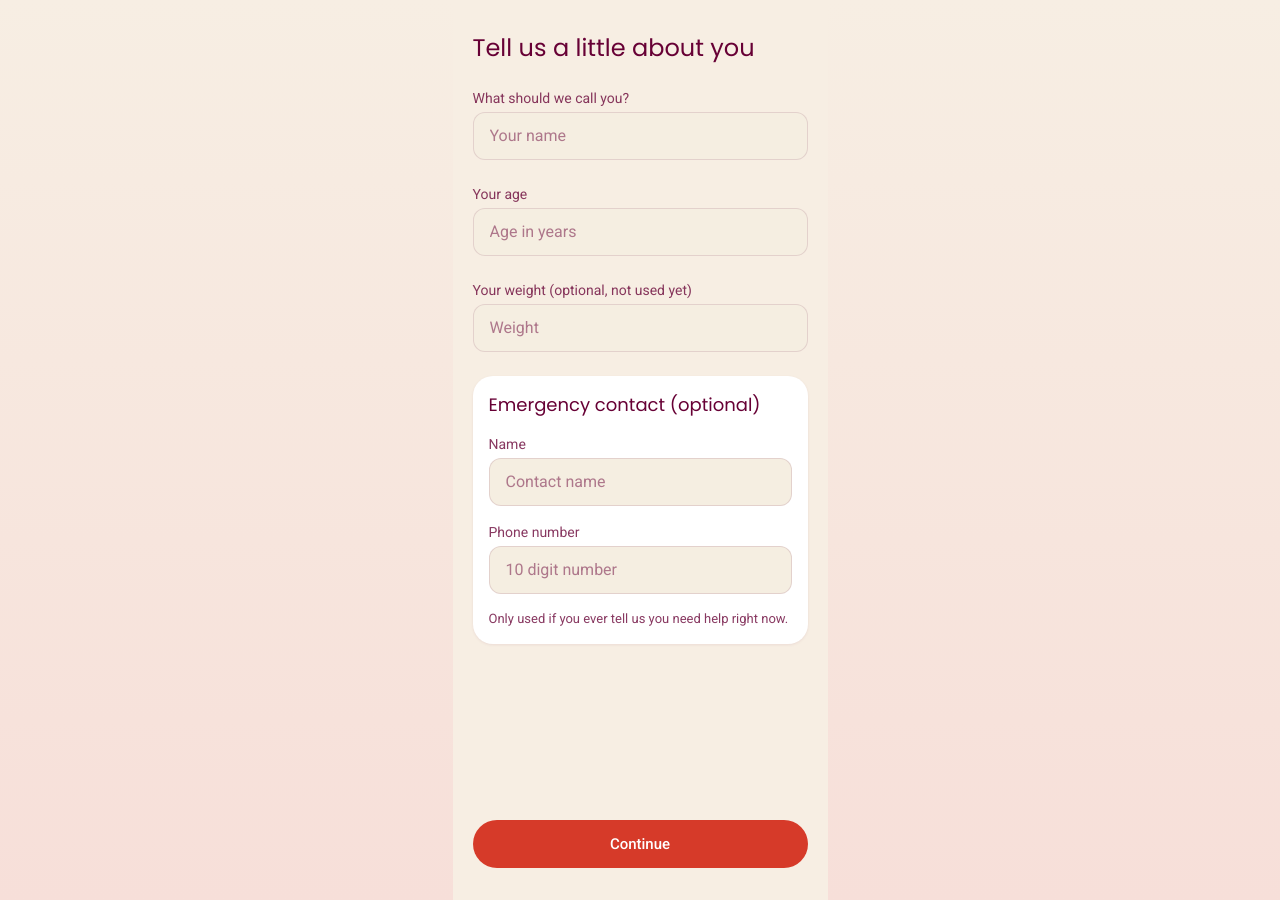
it: OnboardingForm › advances to Pregnancy Start once a name is given
The image size is (1280, 900).
In the field labelled "What should we call you?": (640, 136) [472, 112, 808, 160], type "Priyanka"
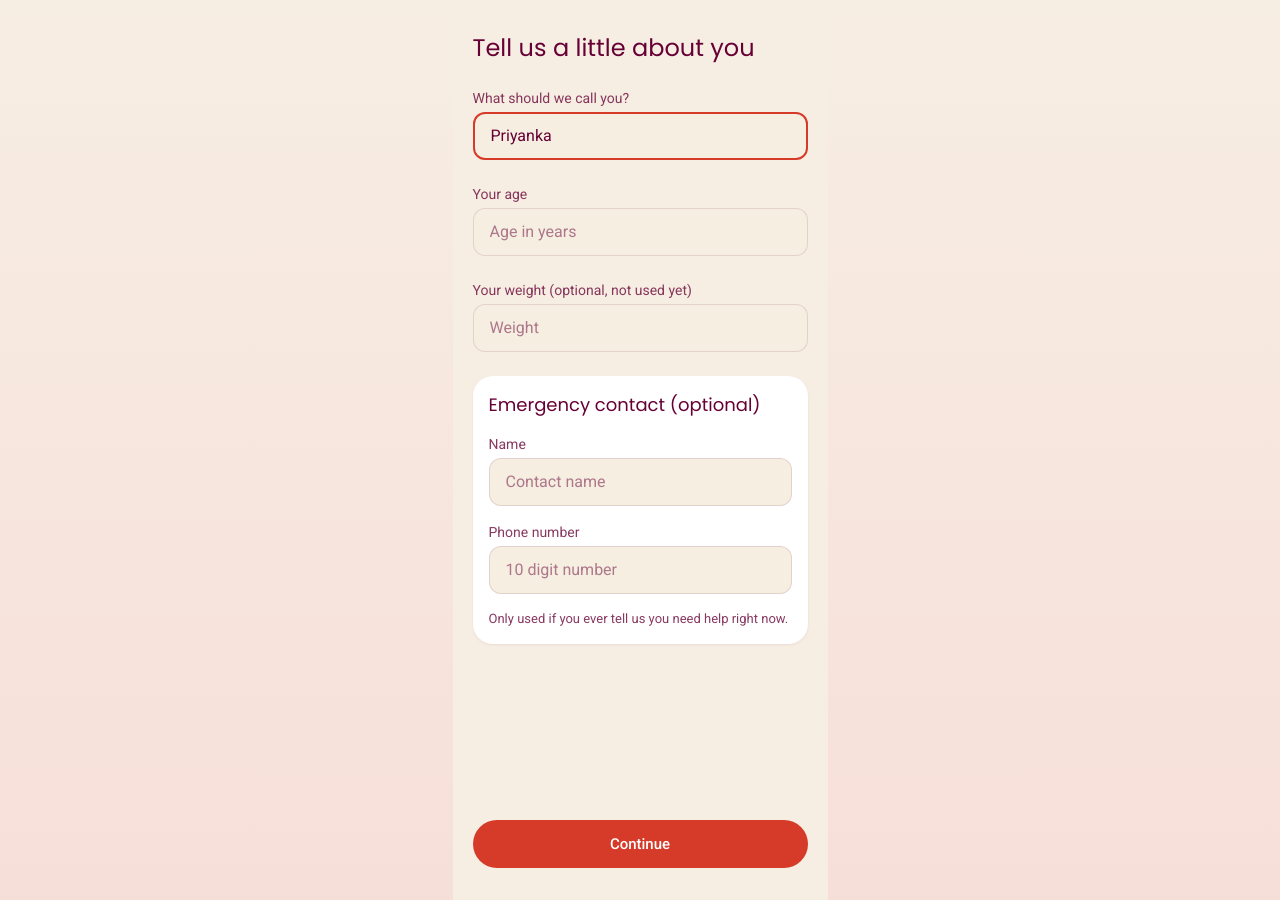
Click the button "Continue": click(640, 844) [472, 820, 808, 868]
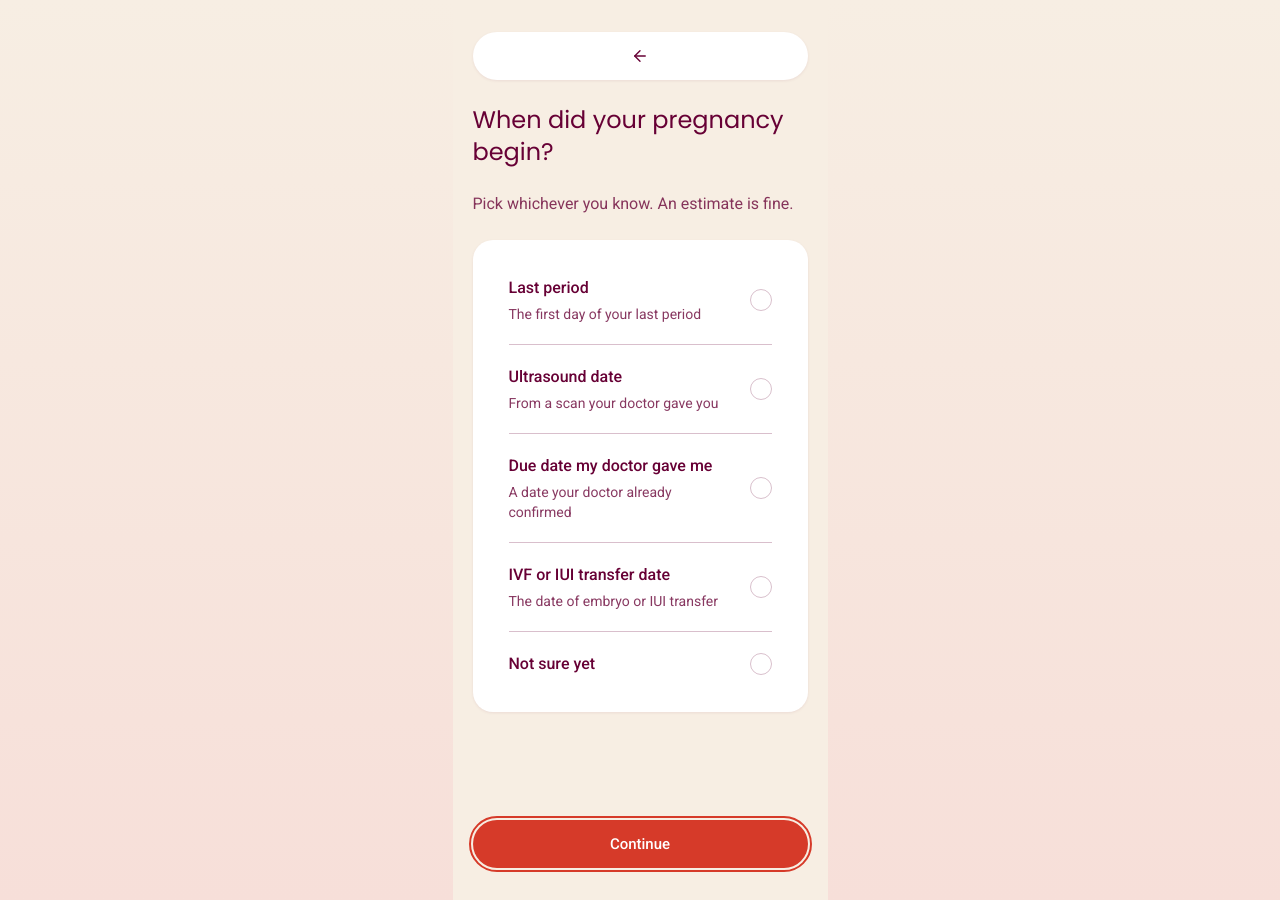
Check: the heading "When did your pregnancy begin?" is shown, box [472, 104, 808, 168]
